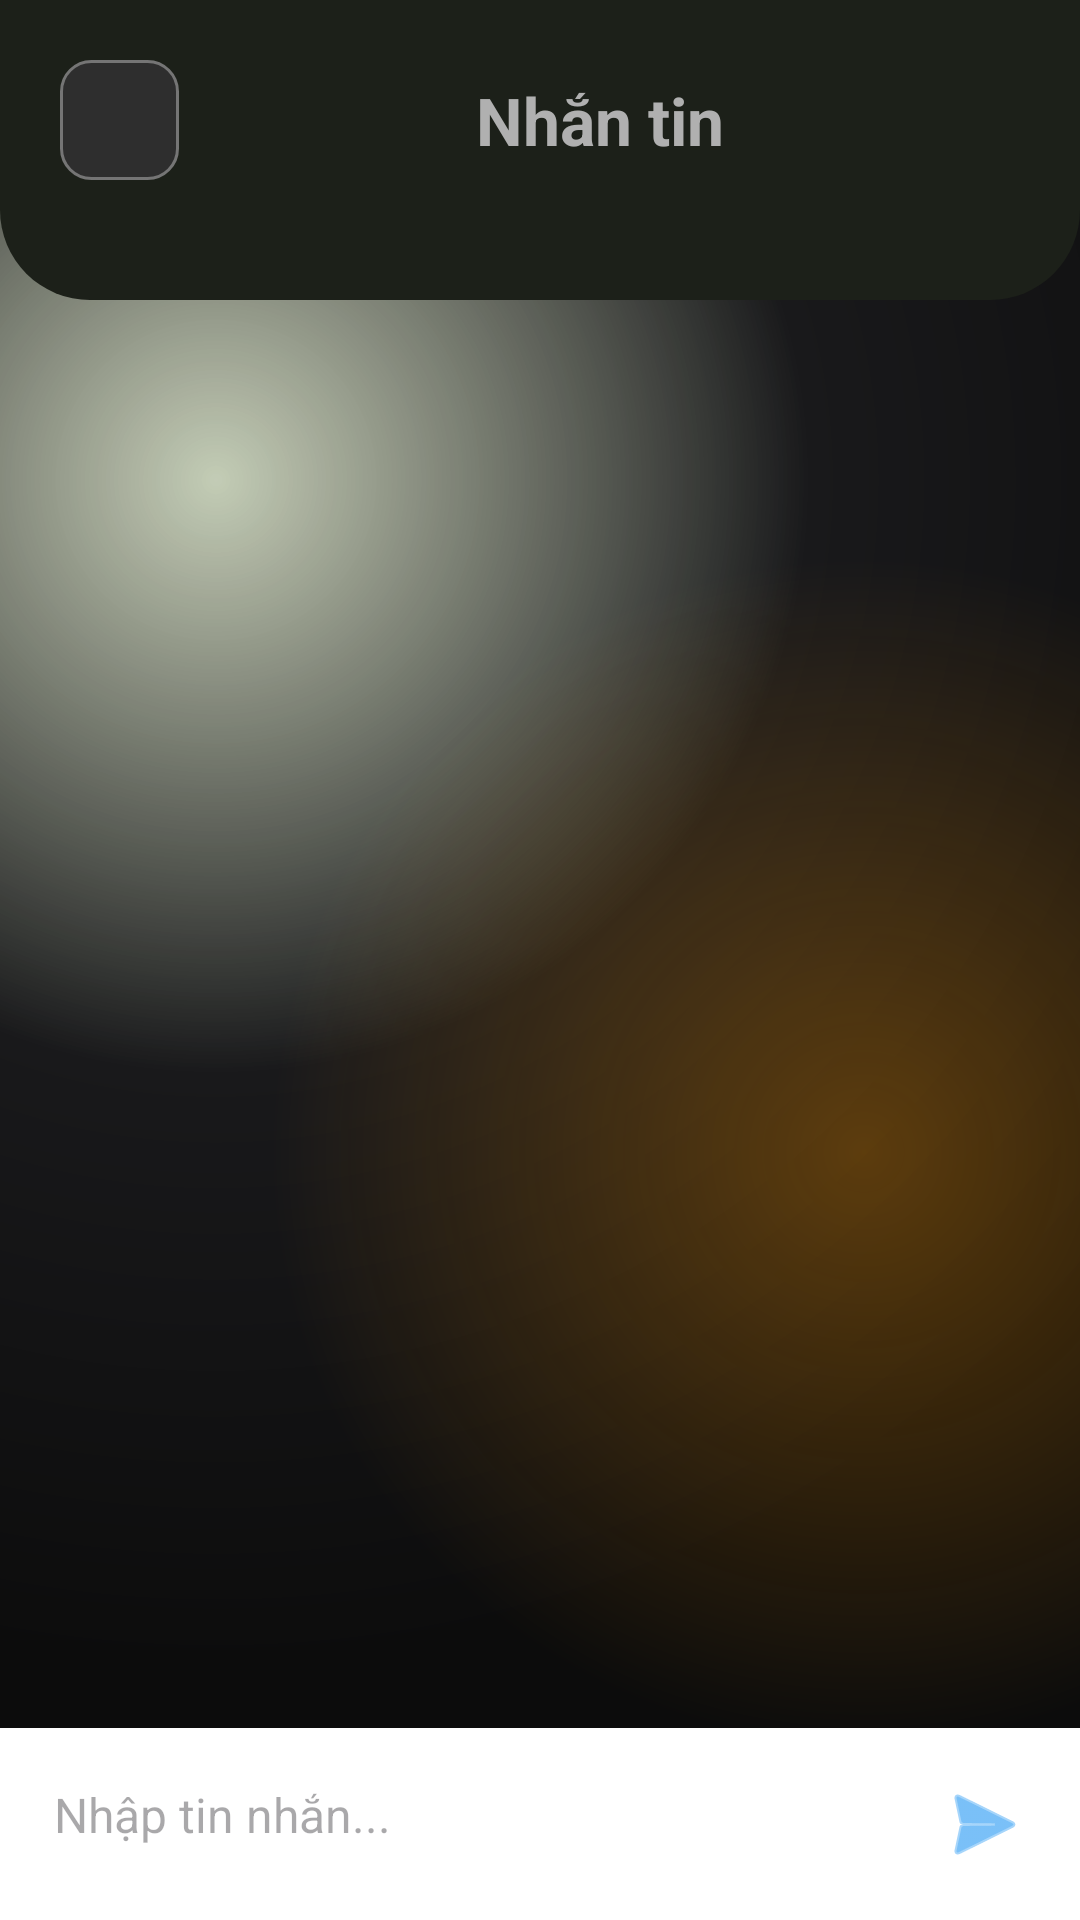

Named icons in this screenshot (1080 x 1920) and their centers, point (x, y):
Gửi: point (985, 1824)
